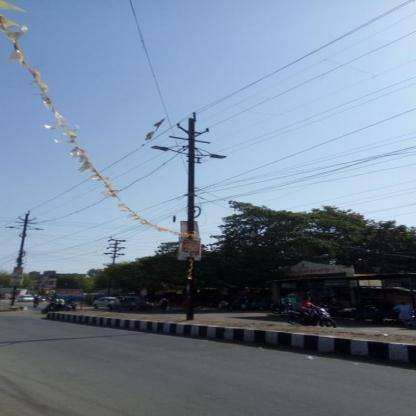Electrical Pole: (150, 106, 232, 323)
